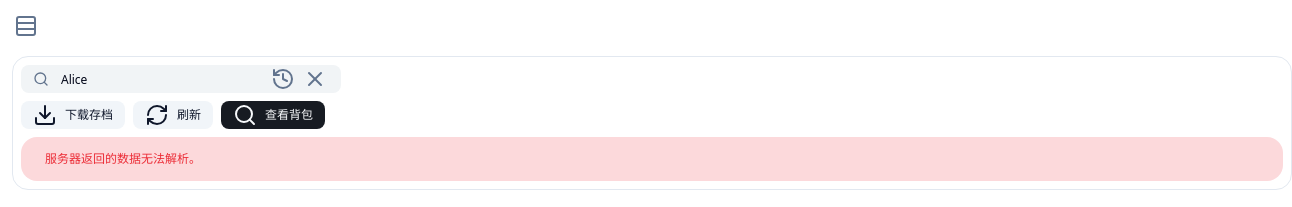
PlayerManagerPage › 输入时清除上一次的错误
Replace the text in the field with placeholder "输入玩家名（支持离线）" with "hf". click: (155, 79)
box: [49, 65, 261, 93]
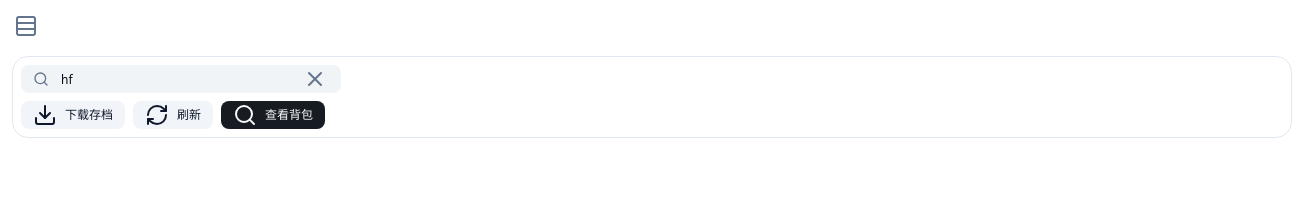
Press Enter in the field with placeholder "输入玩家名（支持离线）", box [49, 65, 293, 93]
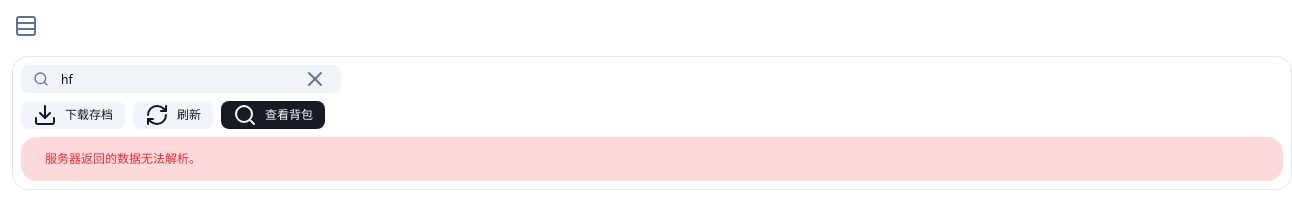
Check: the text "服务器返回的数据无法解析。" is shown, box [45, 150, 201, 167]
Replace the text in the field with placeholder "输入玩家名（支持离线）" with "hfx". click: (171, 79)
box: [49, 65, 293, 93]
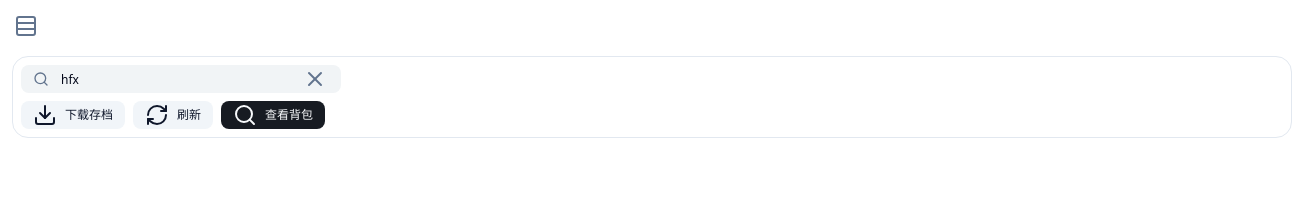
Check: the text "服务器返回的数据无法解析。" is gone
